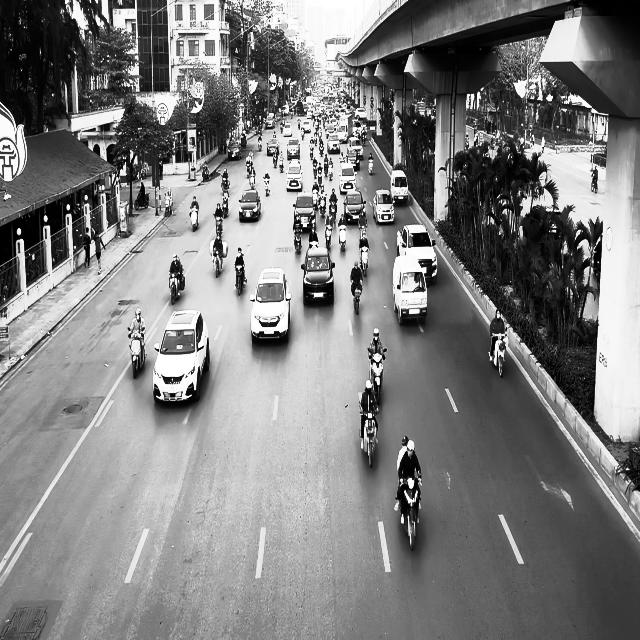car: (152, 310, 210, 404), (249, 266, 291, 344), (392, 254, 427, 326), (397, 223, 438, 284), (300, 246, 335, 306), (292, 192, 316, 232), (372, 188, 395, 224), (343, 190, 366, 223), (238, 190, 261, 222), (285, 159, 303, 191), (228, 140, 242, 160)
motorbike: (398, 475, 422, 550), (358, 393, 378, 467), (368, 347, 387, 404), (489, 330, 508, 378), (128, 331, 146, 378), (209, 239, 228, 277), (168, 266, 185, 304), (234, 265, 247, 296), (351, 280, 362, 314), (359, 246, 370, 276), (134, 191, 149, 210), (189, 206, 199, 231), (293, 226, 302, 253), (338, 224, 347, 251), (214, 213, 224, 237), (324, 224, 332, 248), (164, 196, 173, 217), (263, 175, 270, 195), (590, 175, 598, 192), (250, 170, 256, 189), (368, 158, 373, 175)
